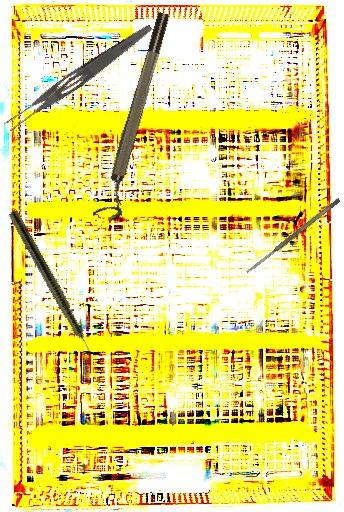Dressing Forceps: (2, 17, 155, 136)
Fixation Ring: (92, 10, 182, 224)
Handpiece: (5, 208, 102, 367)
Spatula Surgical: (244, 197, 342, 275)
